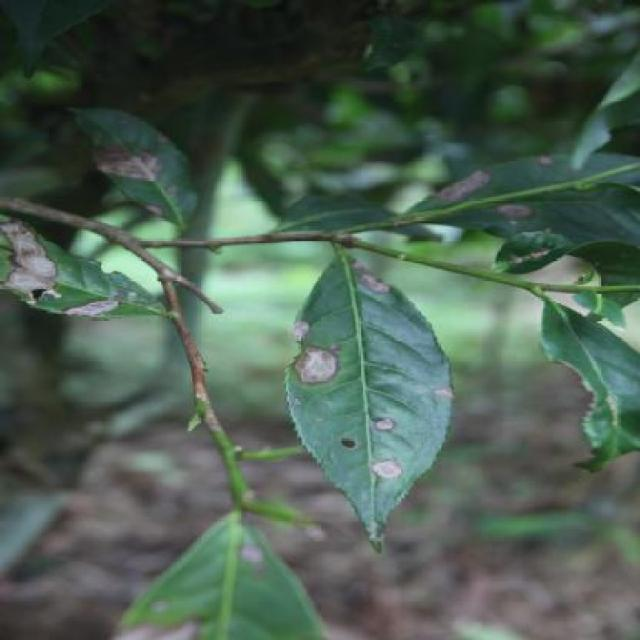Leaf rust of tea: (260, 205, 474, 524), (363, 143, 639, 248), (66, 97, 234, 228), (6, 200, 166, 332)
